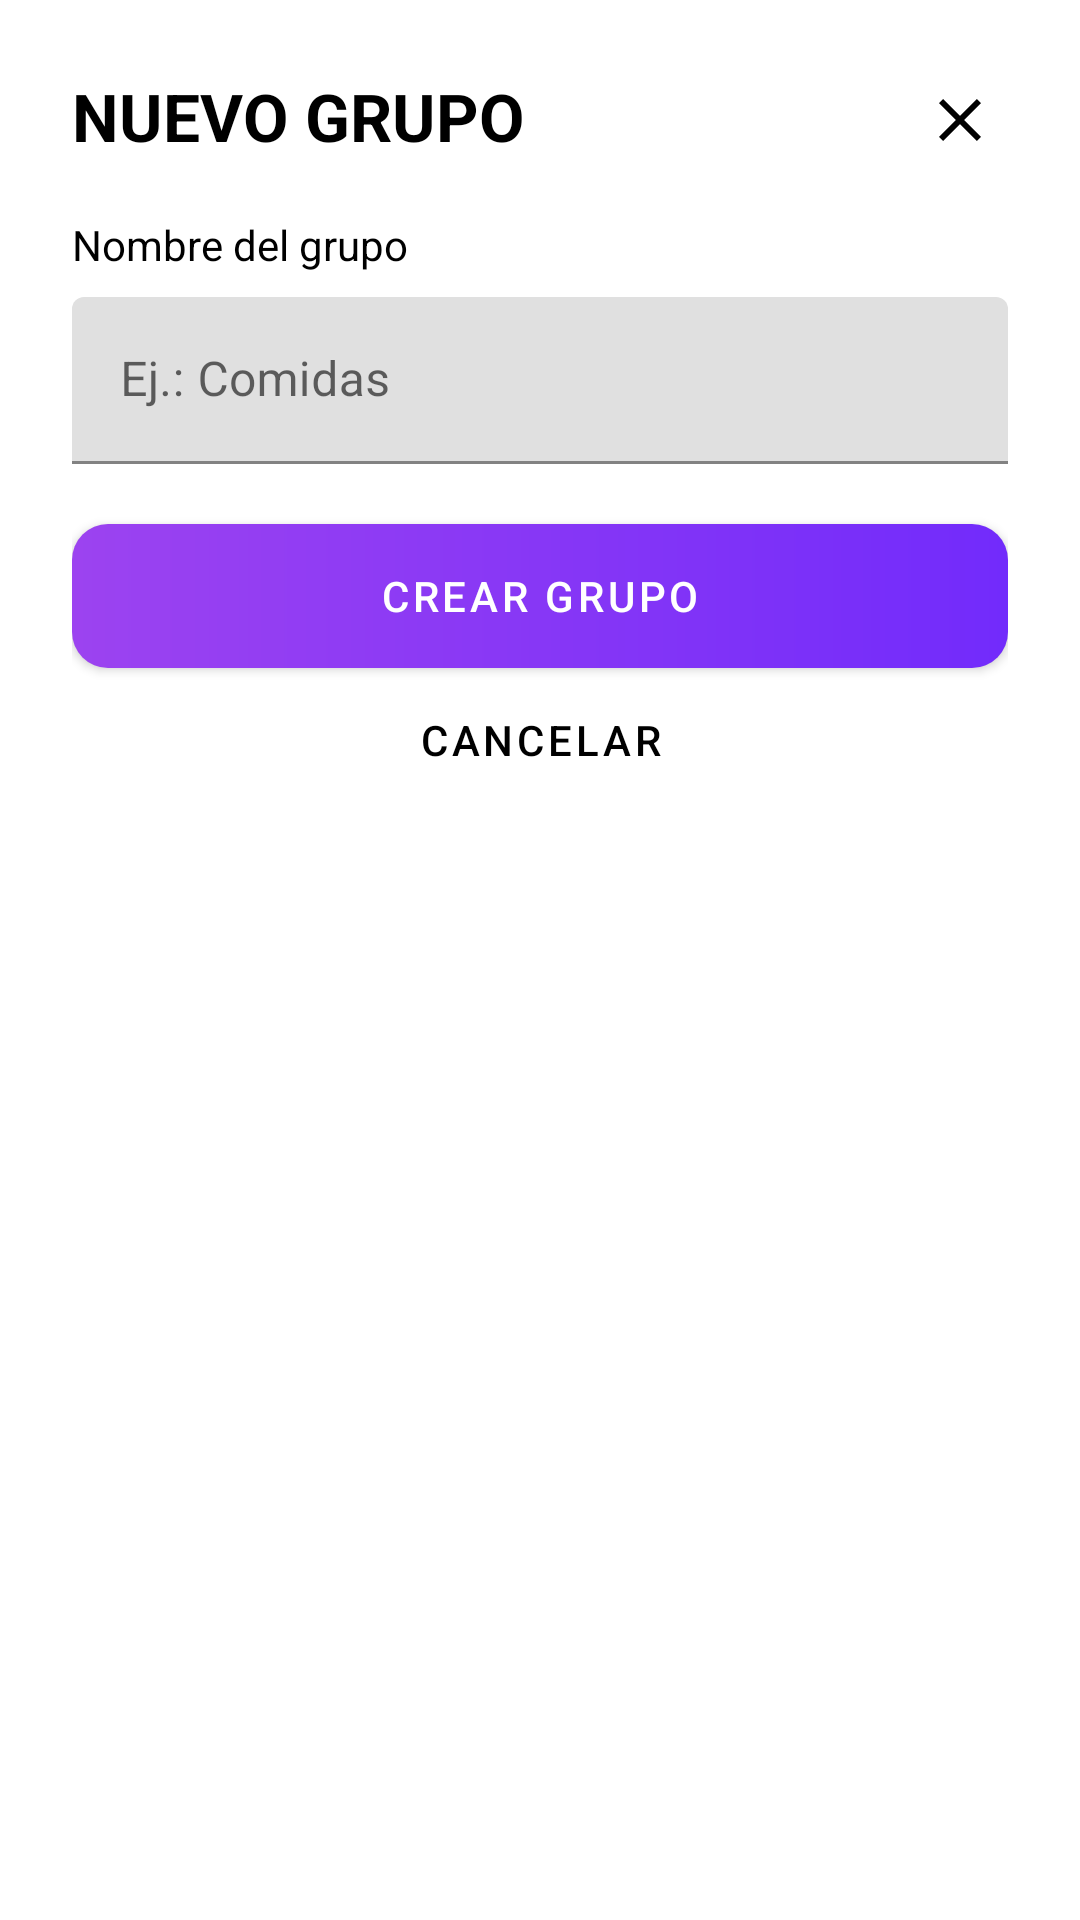

Point at icon controls on the screen. Image size 1080 × 1920, points as (x,y).
close: (960,120)
